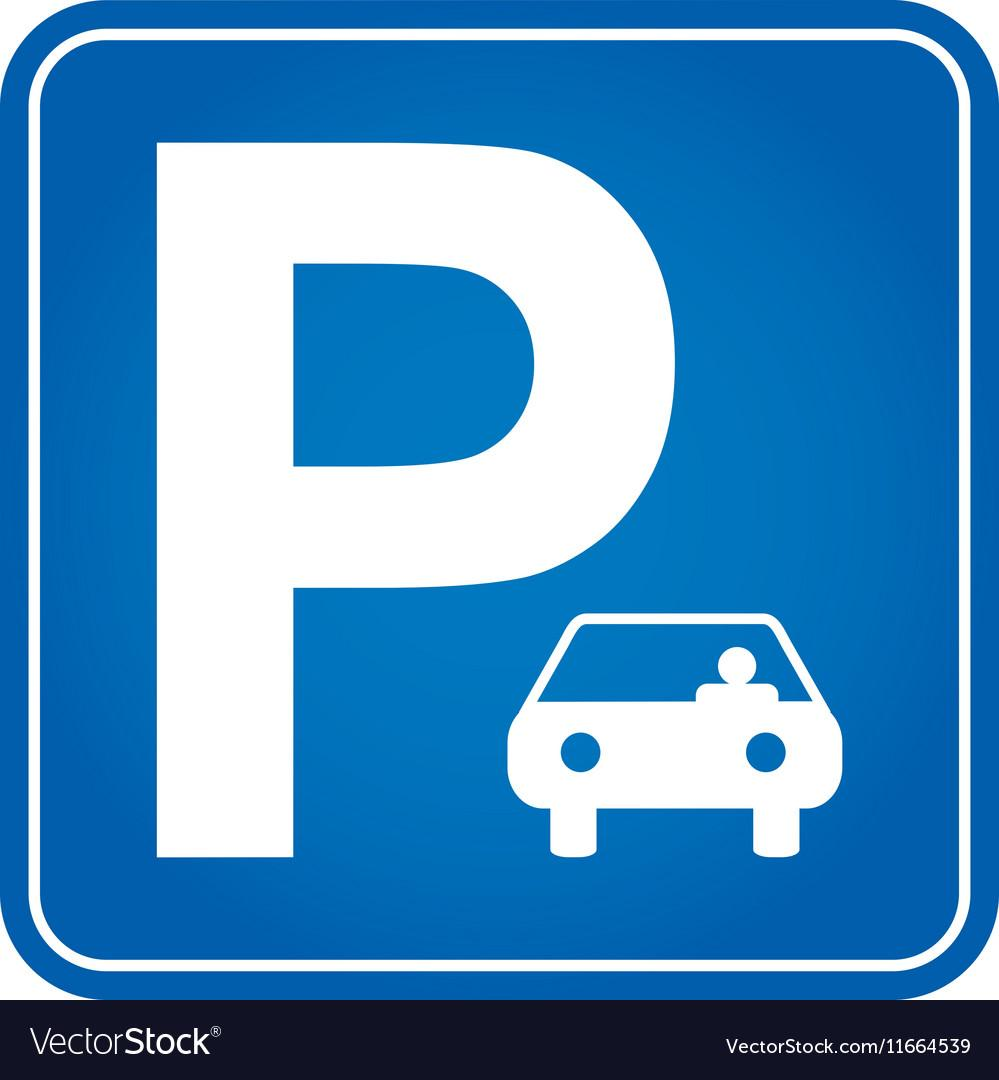Parking Lot Cars: (28, 33, 977, 963)
